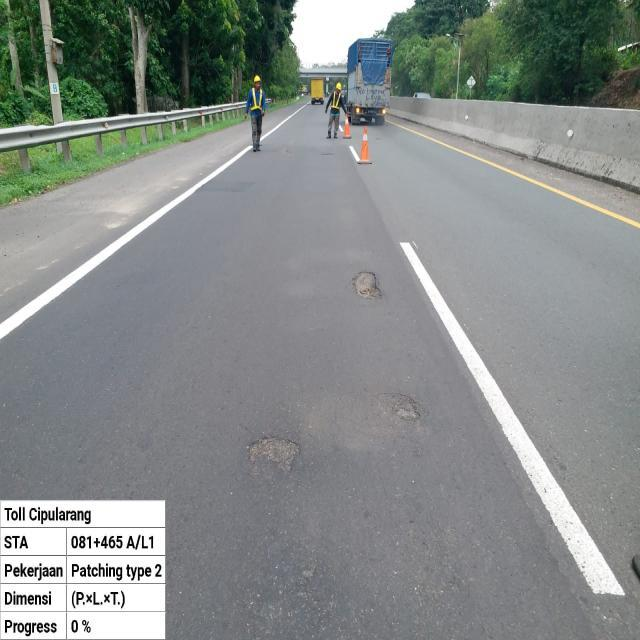Buraco: (242, 433, 304, 478), (371, 390, 425, 424), (350, 270, 384, 302)
